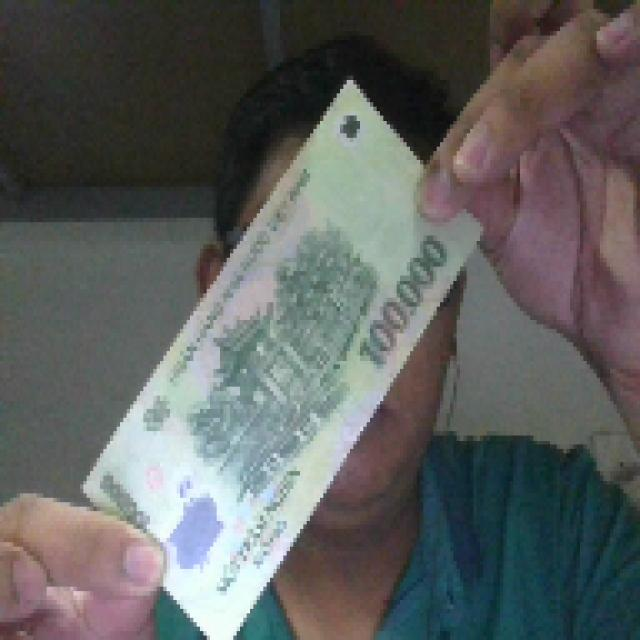100 000 VND: (76, 69, 486, 633)
